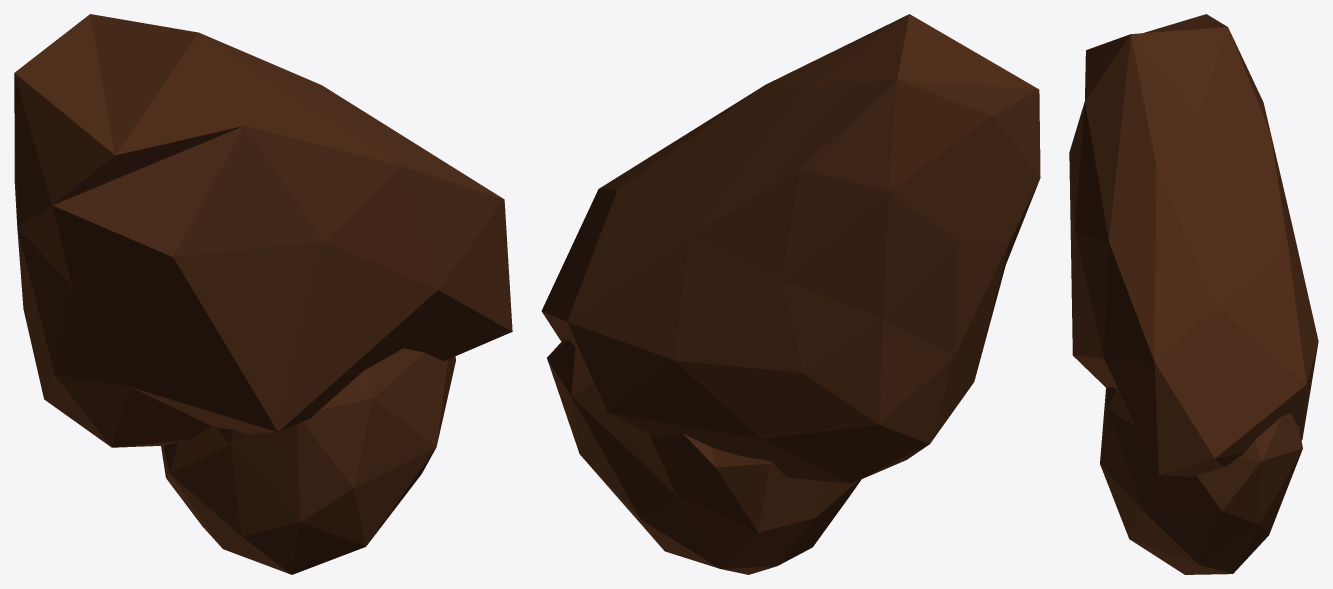
Rendered from PiedraNaranja2.fbx.
3 views of the same model, side by side, from view 1: azimuth 30°, elevation 25°; view 2: azimuth 150°, elevation 25°; view 3: azimuth 270°, elevation 25° (orthographic). The views are drawn at different scales.
Visible parts, largest first — view 1: BrownRock2; view 2: BrownRock2; view 3: BrownRock2.
Part boxes in pixels (x1=…): BrownRock2: x1=14, y1=14, x2=512, y2=574; BrownRock2: x1=541, y1=14, x2=1040, y2=574; BrownRock2: x1=1069, y1=14, x2=1318, y2=574.
Bounding box in the file's own units: 477 × 557 × 265.
